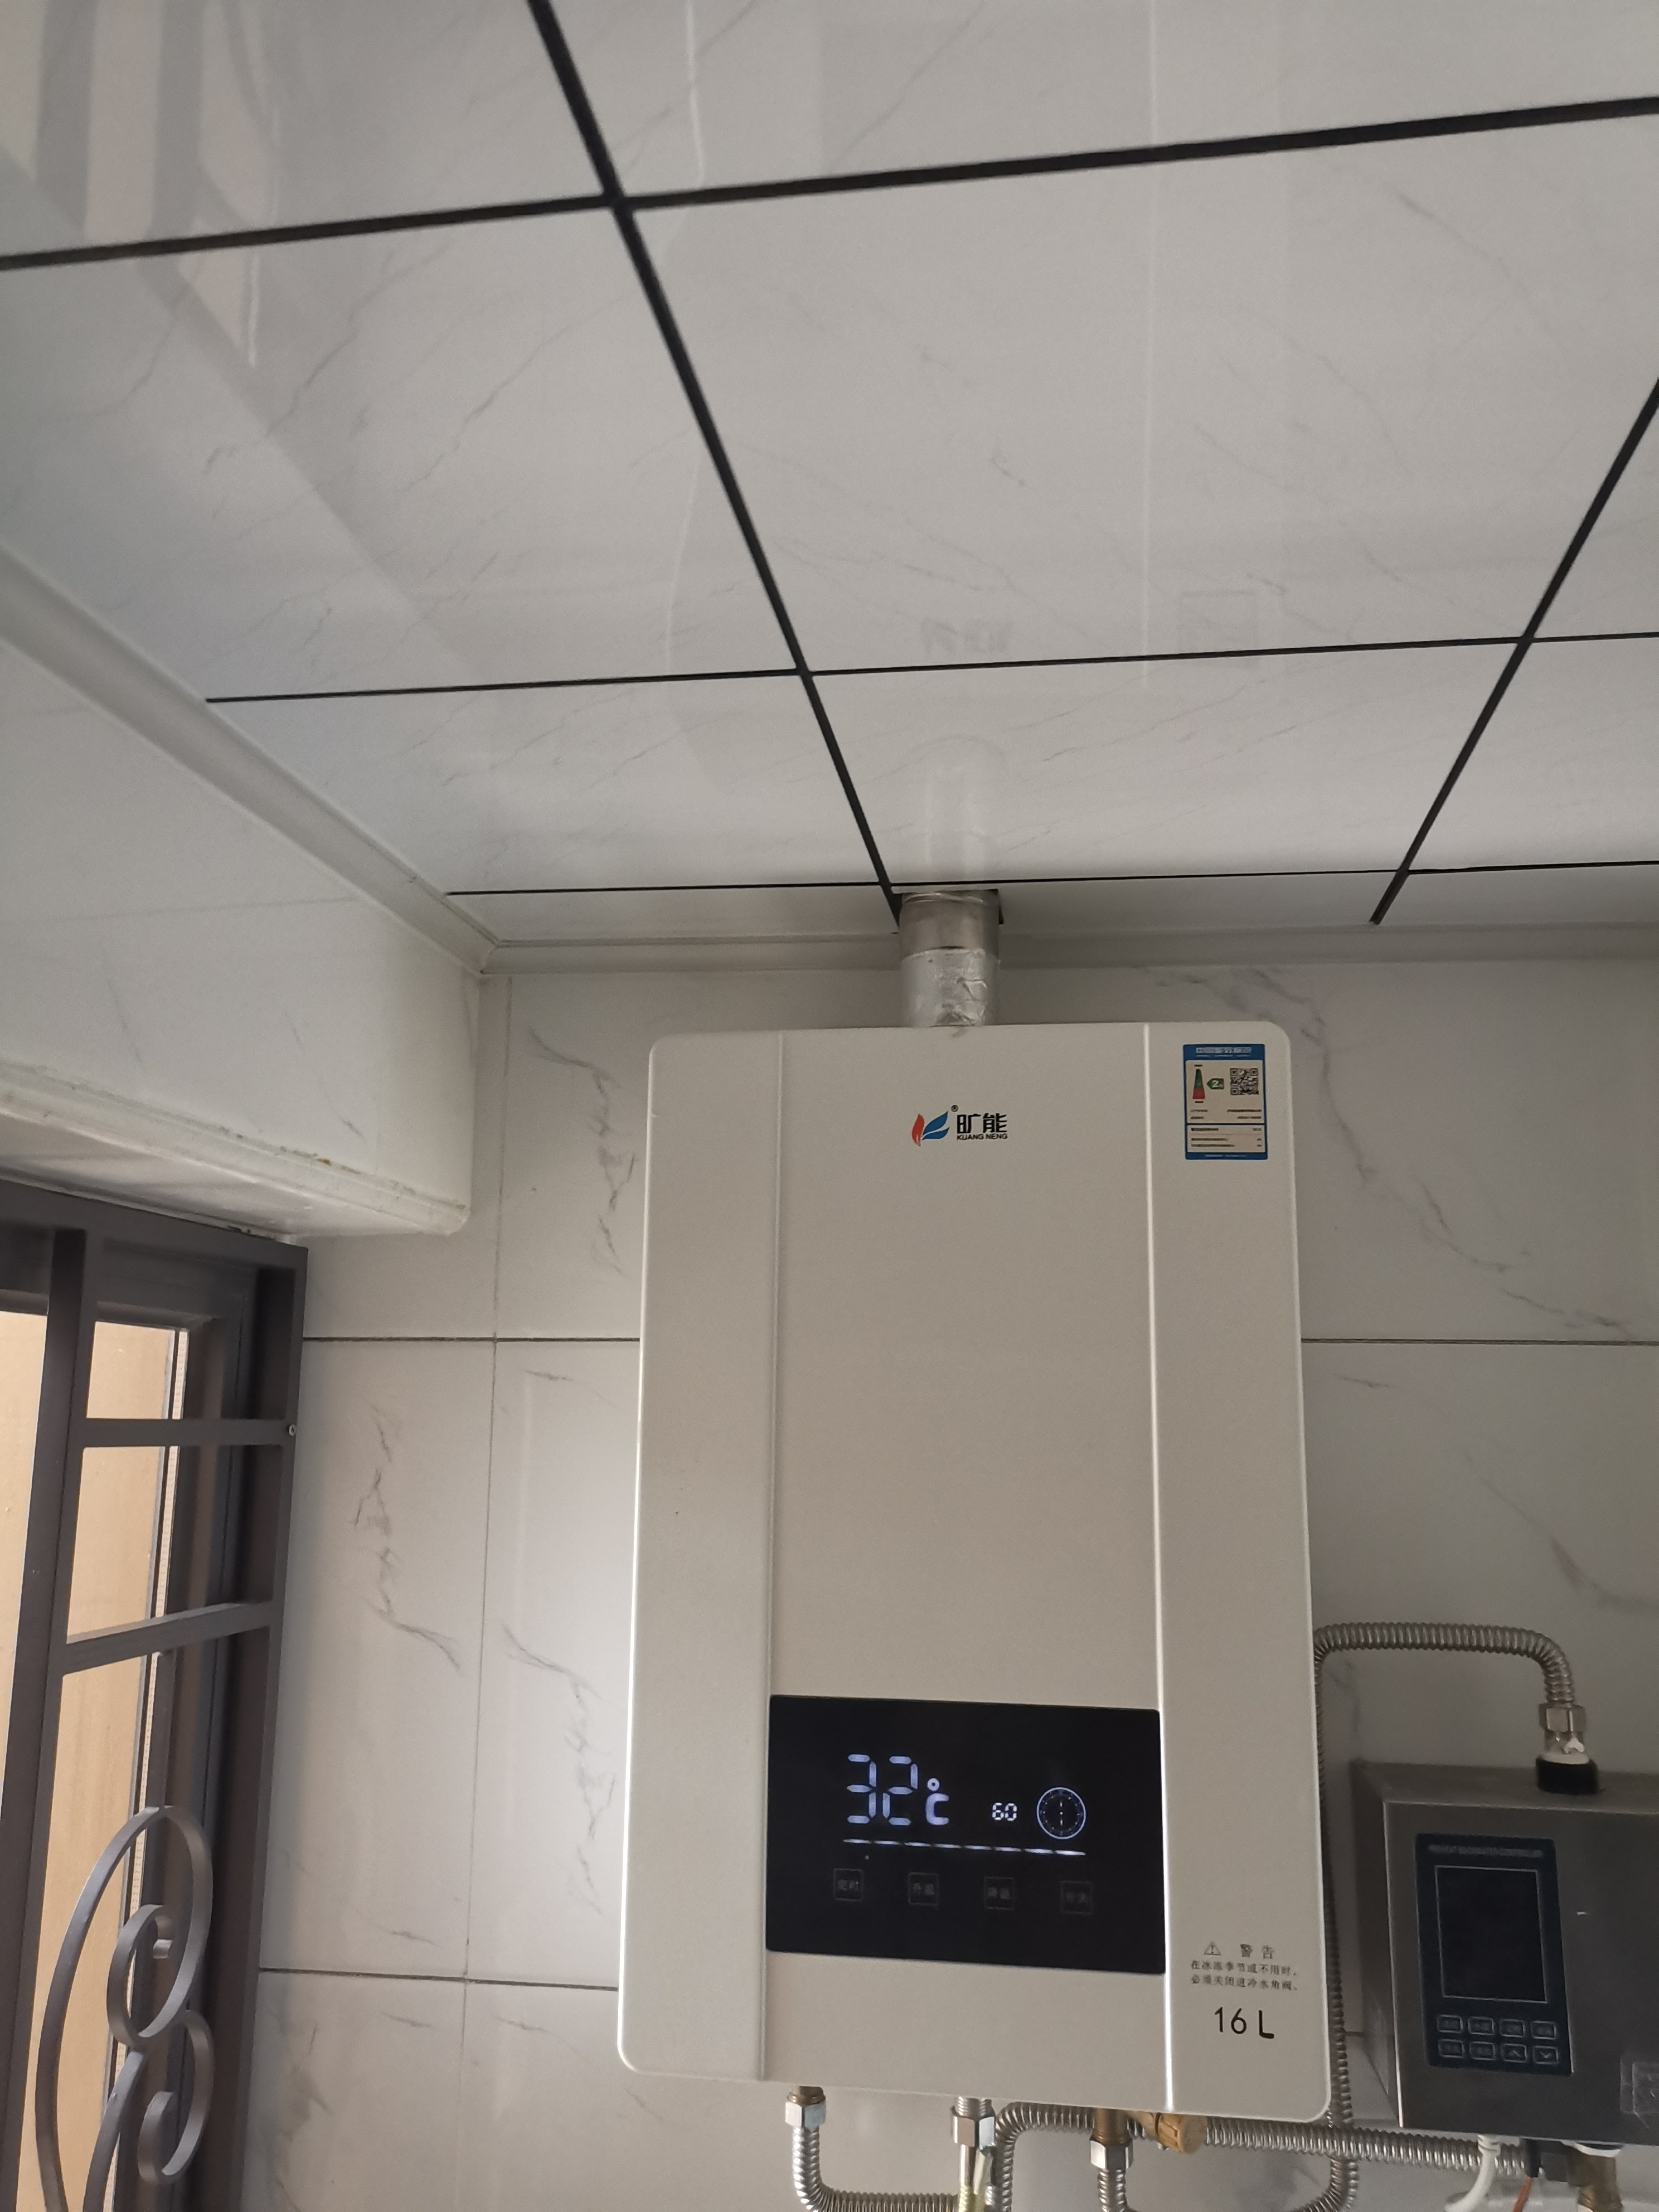loudou: (899, 1099, 1037, 1158)
